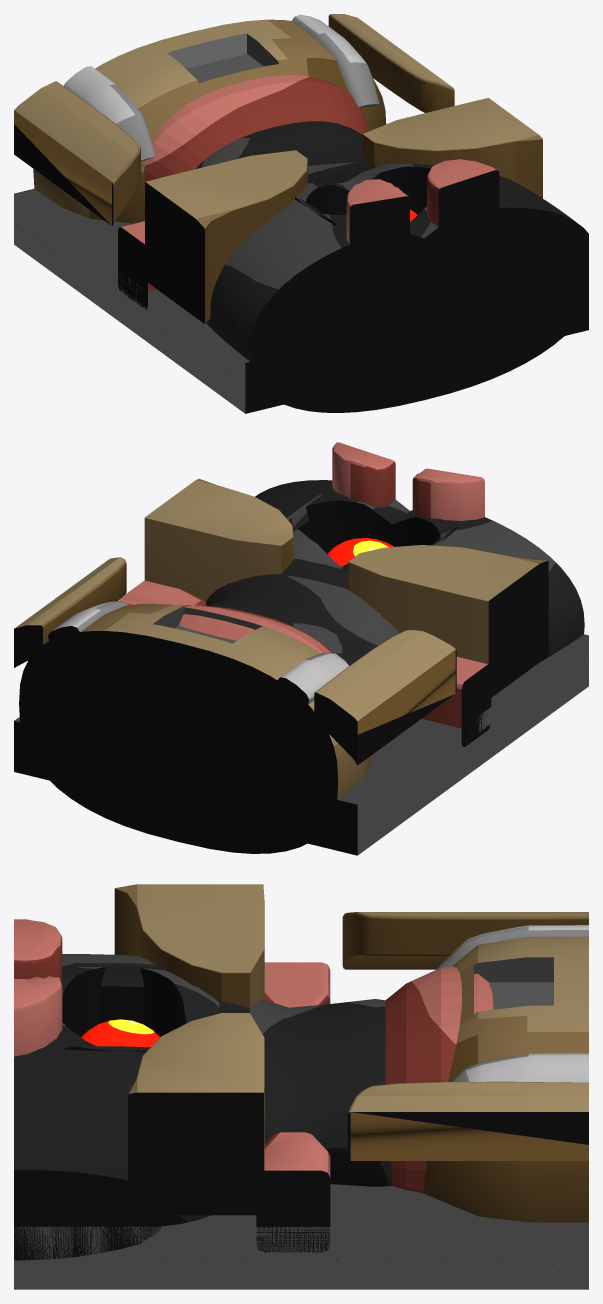
The model's file is tusk_boss_core_41.glb.
The picture shows the model from 3 angles, top to bottom: view 1: azimuth 30°, elevation 25°; view 2: azimuth 150°, elevation 25°; view 3: azimuth 270°, elevation 25°; orthographic projection. The views are drawn at different scales.
Parts seen in each view (by area): view 1: tusk_boss_core_41; view 2: tusk_boss_core_41; view 3: tusk_boss_core_41.
Boxes of the visible parts, x1,y1,x2,y2 form: tusk_boss_core_41: [14, 14, 588, 413]; tusk_boss_core_41: [14, 442, 588, 855]; tusk_boss_core_41: [14, 884, 588, 1289].
Bounding box in the file's own units: 24 × 14.5 × 28.
